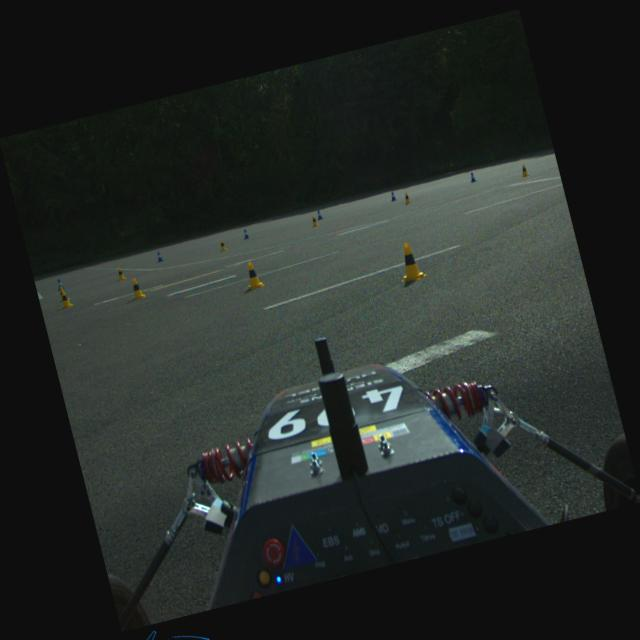blue_cone: (55, 276, 64, 290), (315, 208, 323, 220), (155, 250, 163, 262), (468, 171, 476, 182), (242, 228, 250, 239), (389, 190, 396, 200)
yellow_cone: (394, 241, 427, 283), (242, 260, 265, 290), (128, 276, 146, 300), (58, 288, 74, 310), (57, 284, 69, 302), (115, 266, 126, 281), (218, 238, 228, 251), (518, 164, 528, 176), (402, 191, 411, 204), (310, 214, 318, 227)
